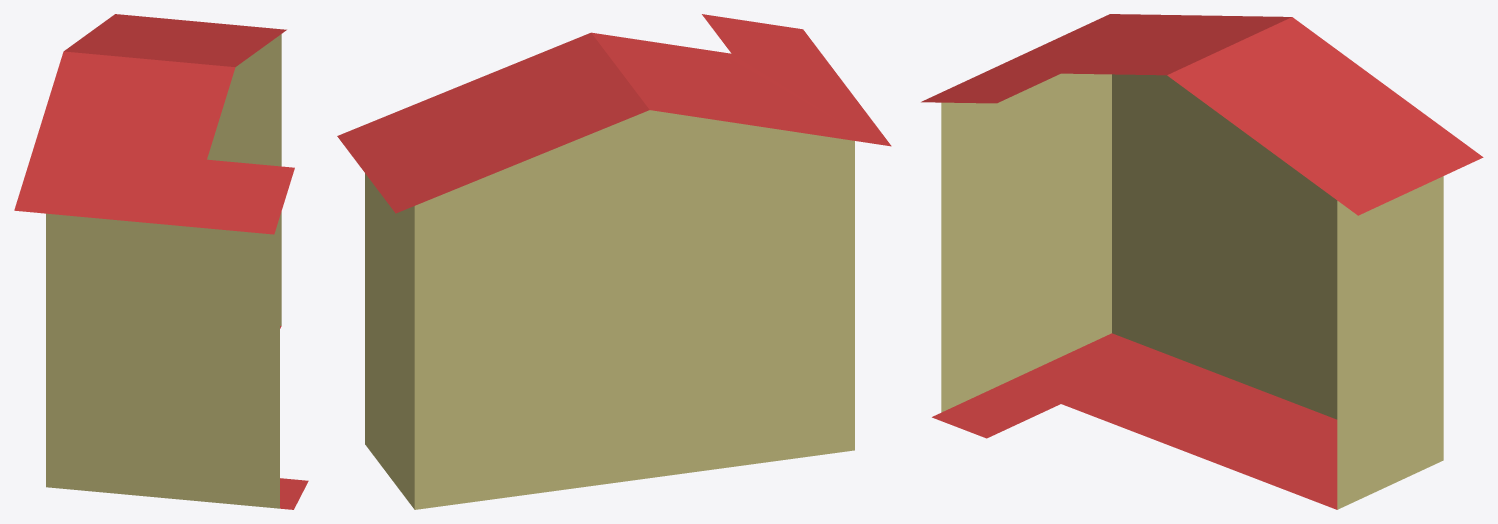
3 views of the same model, side by side, from view 1: azimuth 30°, elevation 25°; view 2: azimuth 150°, elevation 25°; view 3: azimuth 270°, elevation 25° (orthographic). The views are drawn at different scales.
Parts seen in each view (by area): view 1: group_5, group_3, group_4, group_6; view 2: group_5, group_3, group_4; view 3: group_5, group_3, group_6, group_4.
Boxes of the visible parts, x1,y1,x2,y2 form: group_5: (46, 34, 281, 508); group_3: (14, 14, 294, 234); group_4: (17, 15, 285, 233); group_6: (280, 326, 308, 509); group_5: (365, 110, 854, 509); group_3: (337, 14, 891, 213); group_4: (339, 26, 890, 211); group_5: (941, 73, 1443, 509); group_3: (921, 14, 1483, 215); group_6: (932, 333, 1337, 509); group_4: (924, 14, 1480, 215).
Size of the model in its own units: 8.39 by 9.9 by 7.16.
